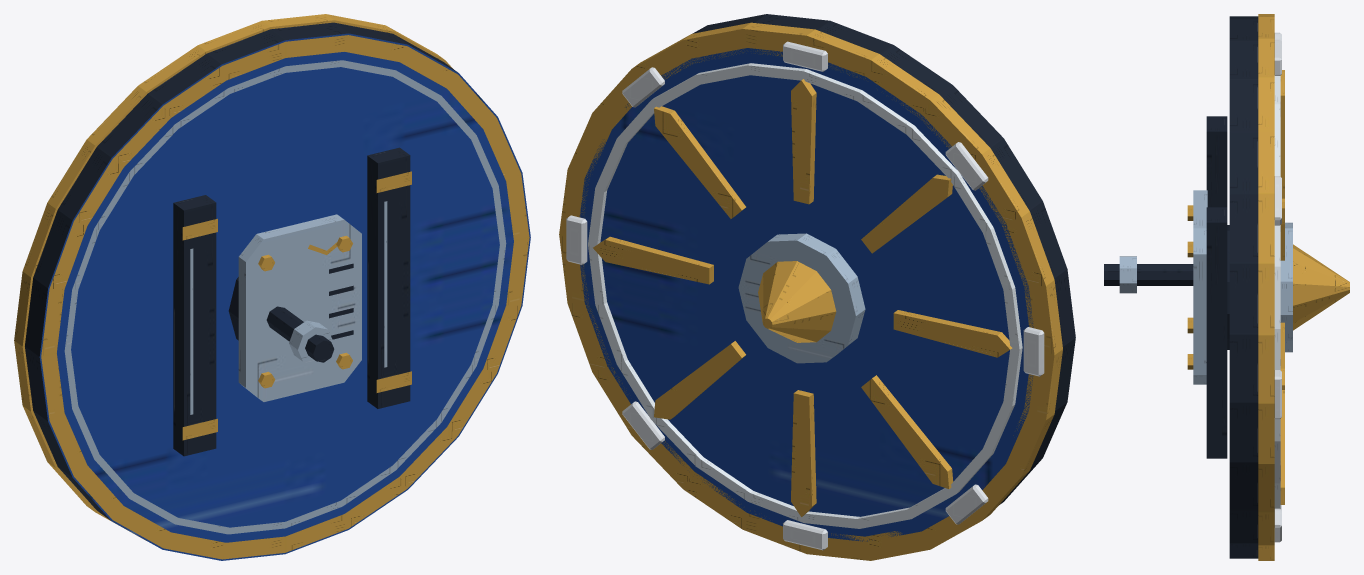
Rendered from guardian.glb.
The picture shows the model from 3 angles, left to right: view 1: azimuth 30°, elevation 25°; view 2: azimuth 150°, elevation 25°; view 3: azimuth 270°, elevation 25°; orthographic projection. The views are drawn at different scales.
Parts seen in each view (by area): view 1: plate, mount; view 2: plate; view 3: plate, mount.
Boxes of the visible parts, x1,y1,x2,y2 form: plate: [14, 14, 530, 560]; mount: [266, 306, 334, 363]; plate: [559, 14, 1075, 560]; plate: [1187, 14, 1349, 560]; mount: [1104, 256, 1193, 293].
Bounding box in the file's own units: 0.7 × 0.7 × 0.3135.
Materials: 6 (6 with a texture image).
